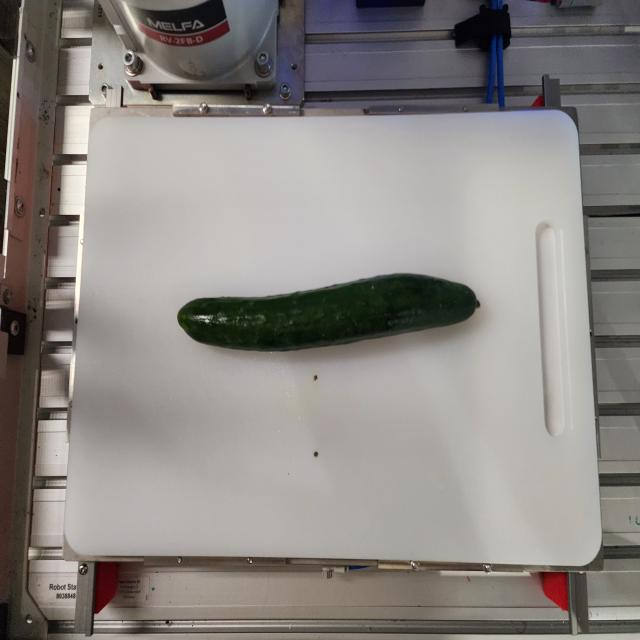cucumber: (176, 271, 481, 352)
